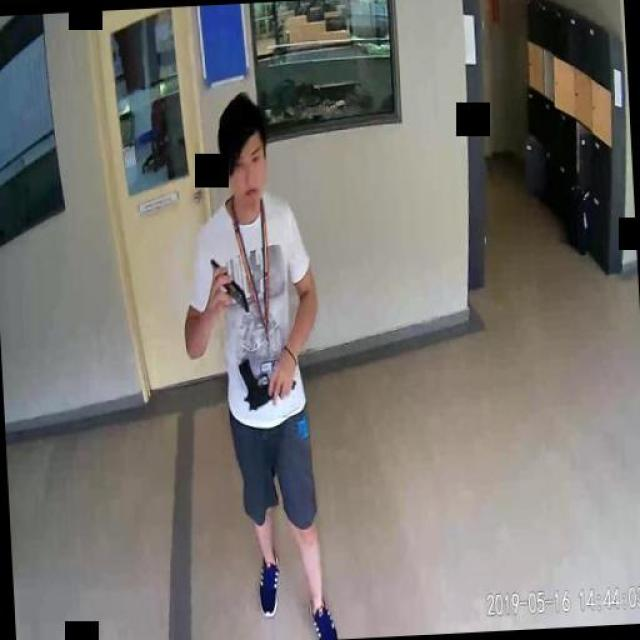gun: (236, 356, 295, 410)
